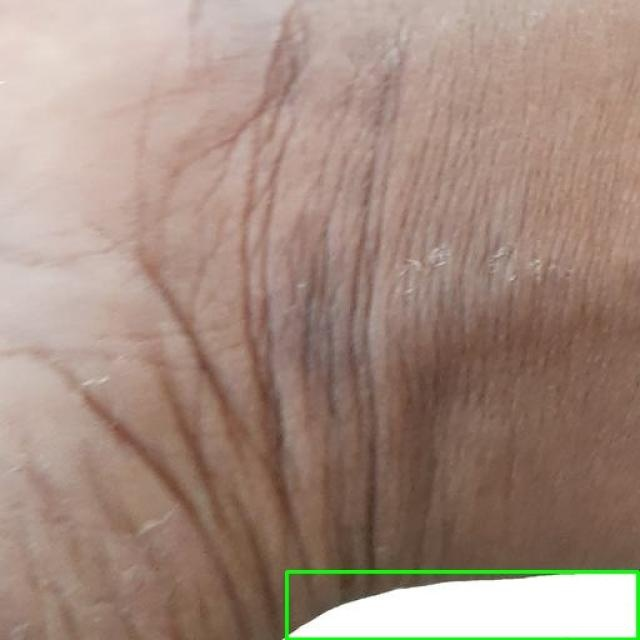Scabies: (286, 571, 639, 639)
